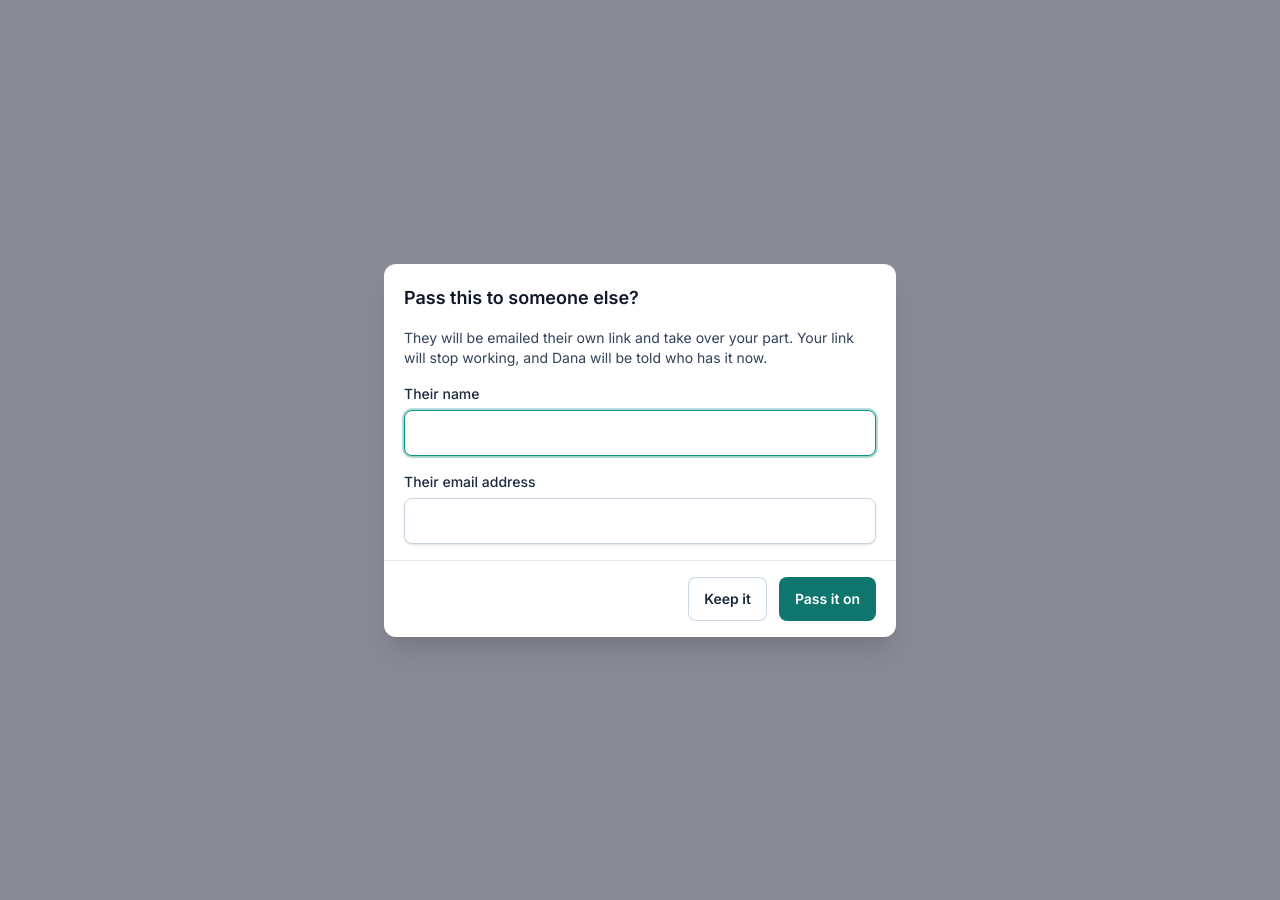
Test: DelegateDialog › keeps the dialog open and explains when that person is already on the document
In the field labelled "Their name": coordinates (640, 432) [404,410,876,456], type "Ben"
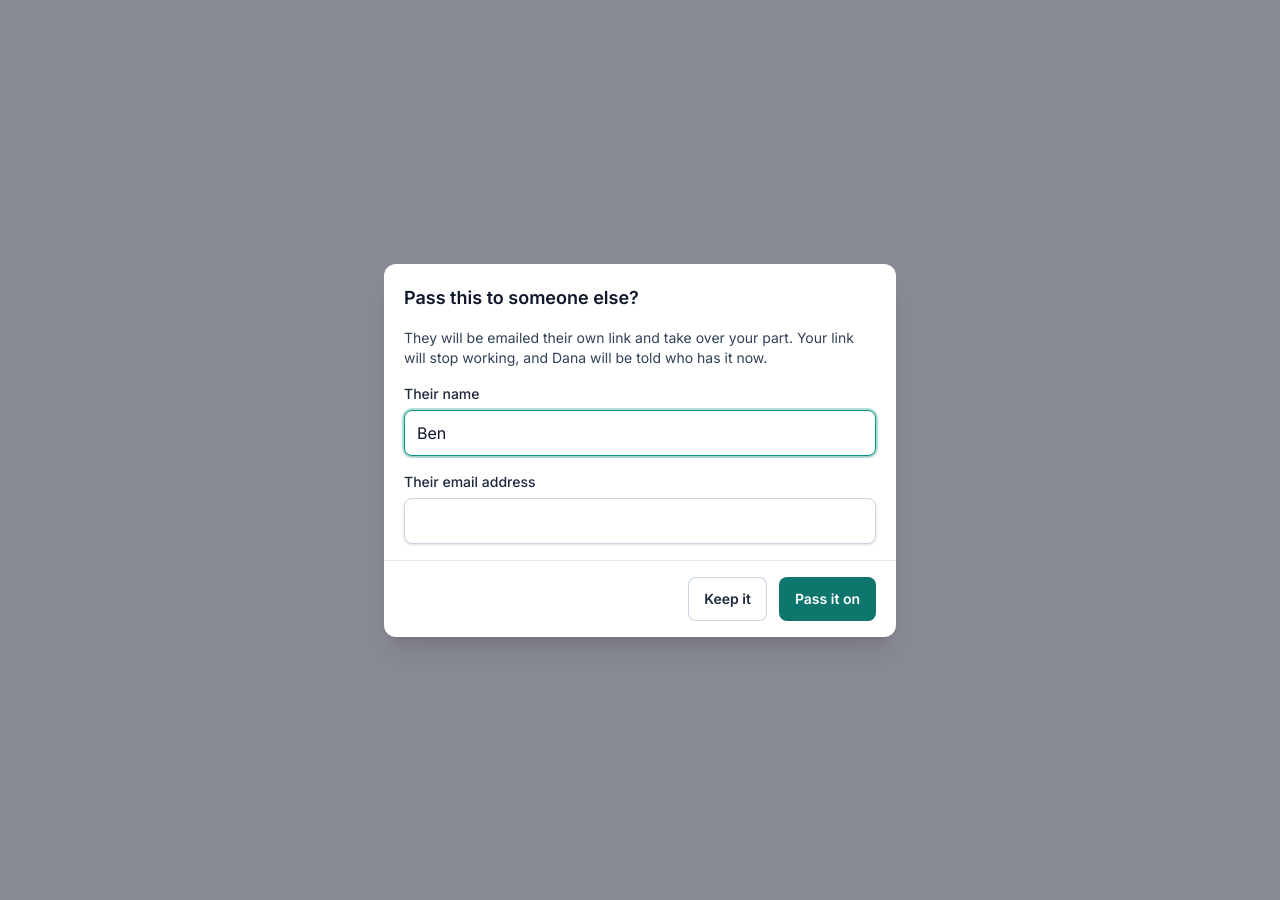
In the field labelled "Their email address": coordinates (640, 520) [404,498,876,544], type "ben@example.com"
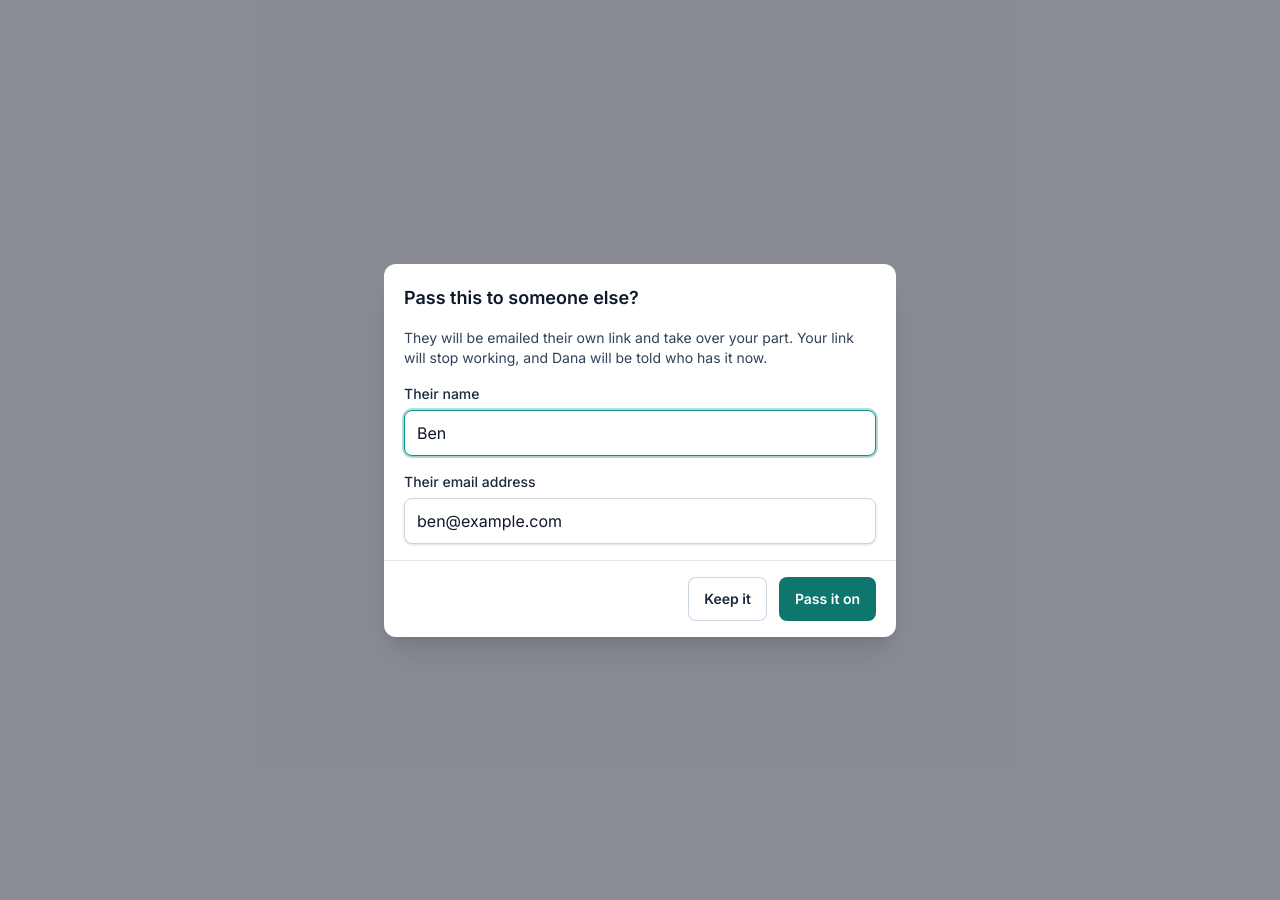
Click the button "Pass it on": coordinates (827, 598) [779,576,876,620]
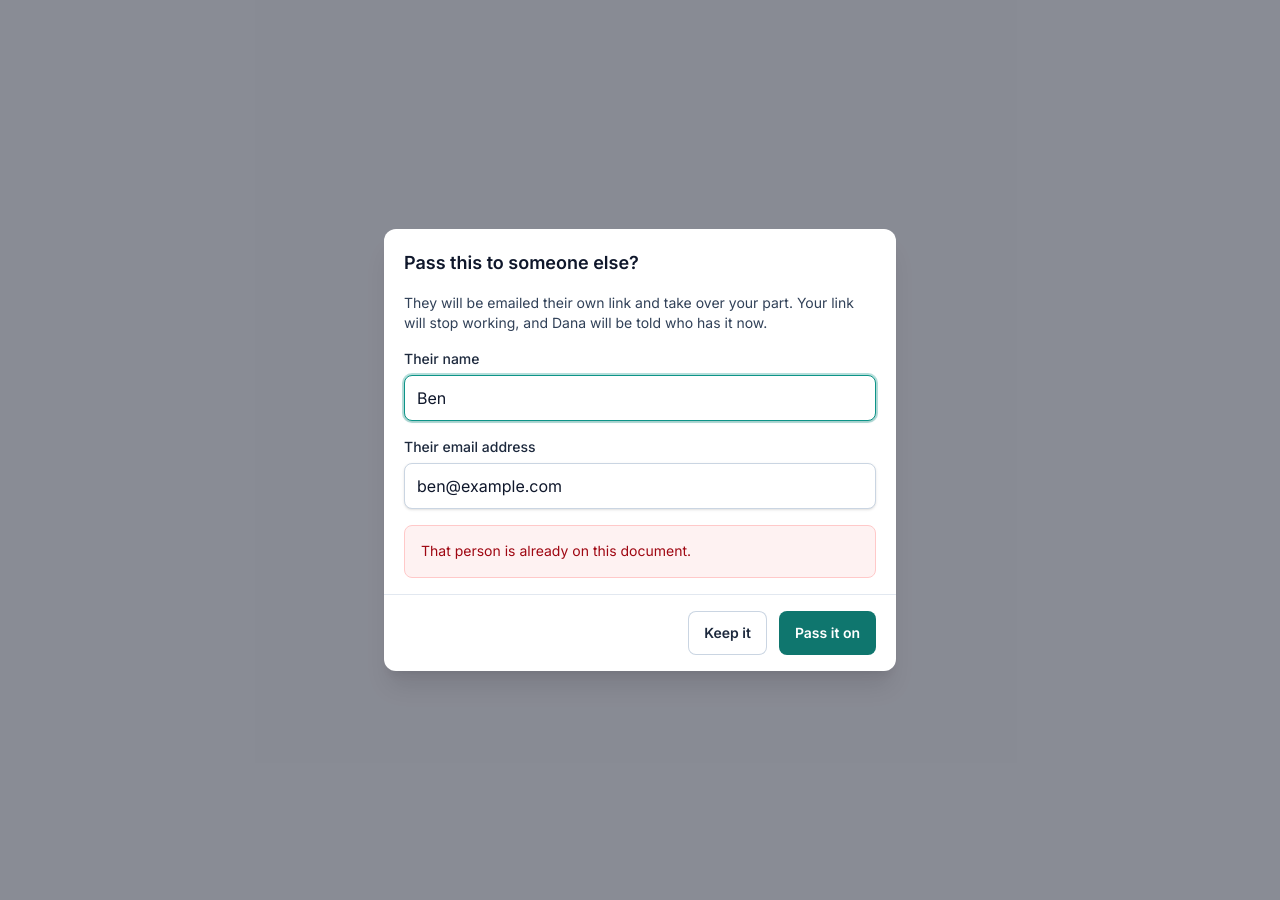
Expected: the text "That person is already on this document." is shown, [421,542,691,559]
